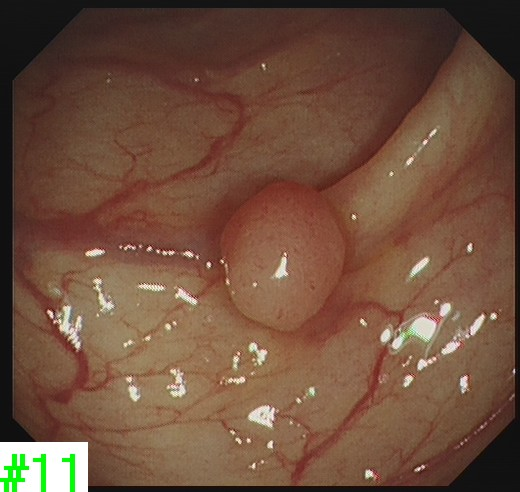adenoma: (216, 177, 350, 335)
